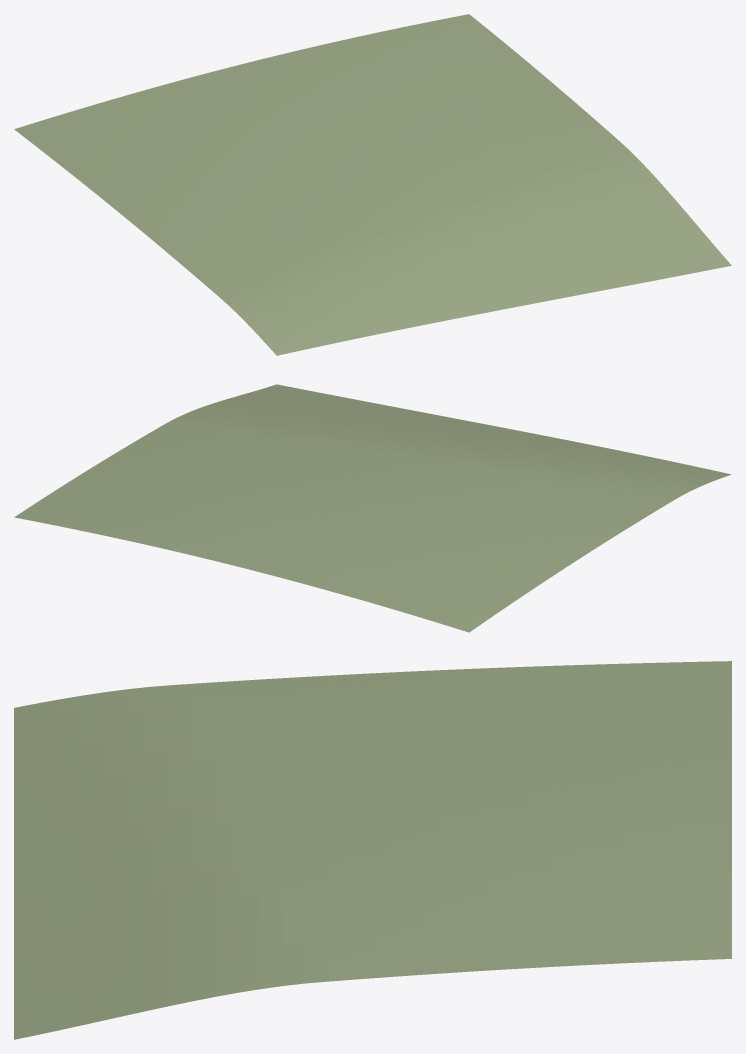
File: valley-6-6.glb
3 renders of one model, top to bottom at view 1: azimuth 30°, elevation 25°; view 2: azimuth 150°, elevation 25°; view 3: azimuth 270°, elevation 25°, orthographic. The views are drawn at different scales.
Visible parts, largest first — view 1: valley-6-6; view 2: valley-6-6; view 3: valley-6-6.
Part boxes in pixels (box(x1,y1,x2,y2)): valley-6-6: box(14, 14, 731, 355); valley-6-6: box(14, 384, 731, 632); valley-6-6: box(14, 661, 731, 1039).
Size of the model in its own units: 256 by 34.81 by 256.
